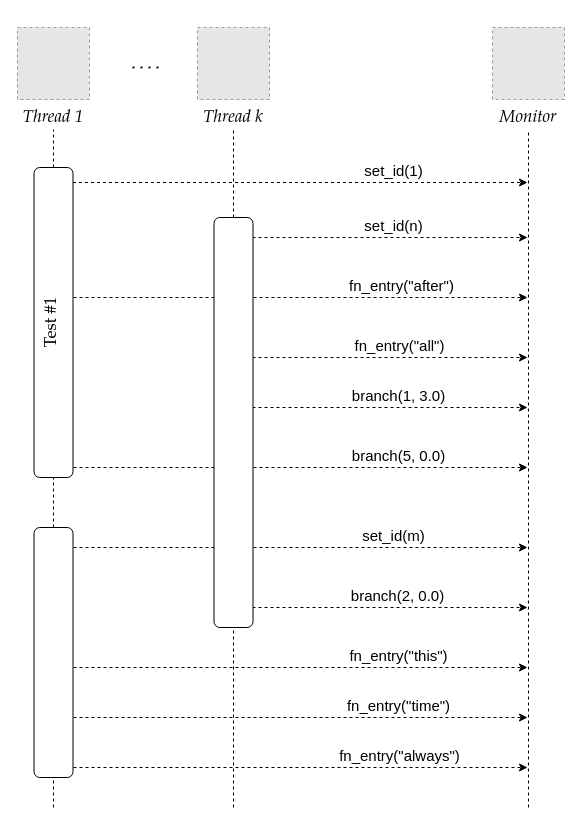
This 582x826 diagram has some shape labels left out. Grey dashed boxes stand in for pictures. Each missing label, with the centre of its shape:
"Test #m" belongs at (x=53, y=652).
"Test #n" belongs at (x=233, y=422).
